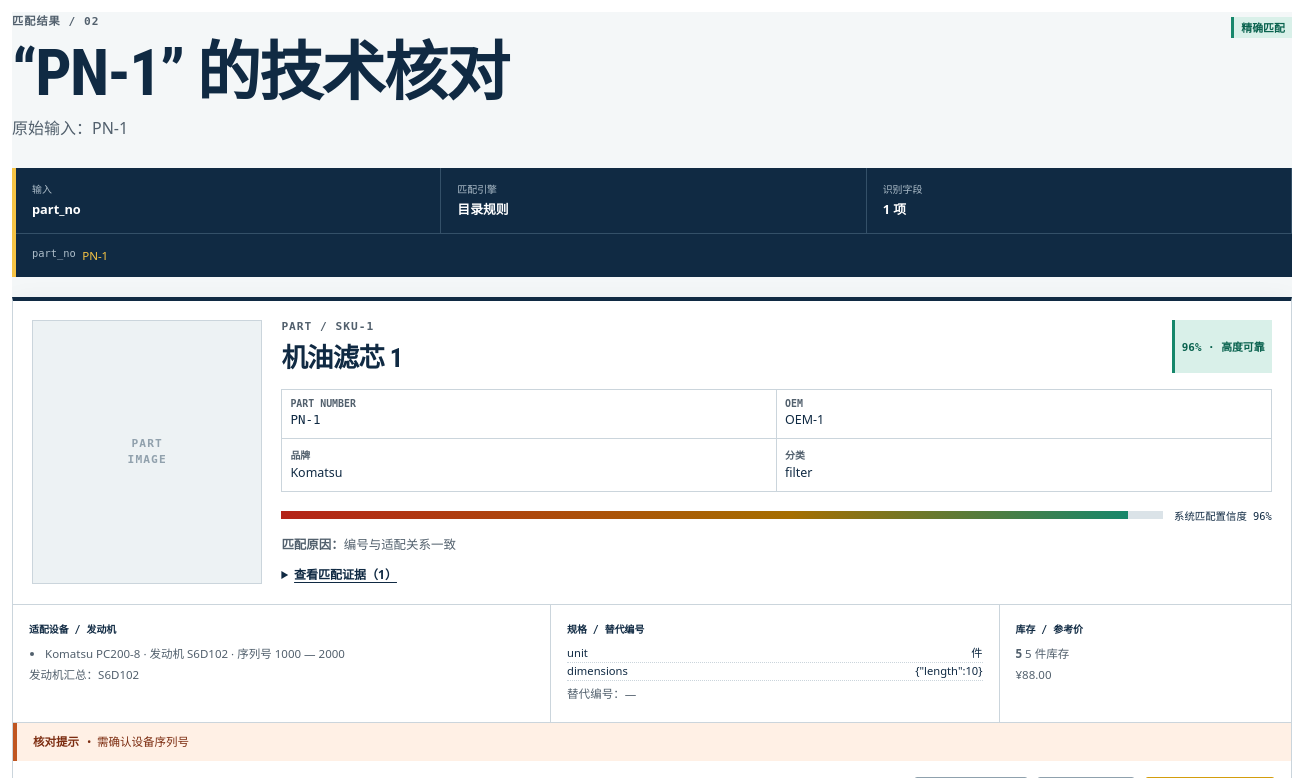
SearchPage › 优先使用 route state，不重复请求并完整展示字段与安全图片 fallback
Expected: the text "原始输入：PN-1" is shown, [12, 117, 128, 139]
Expected: the text "目录规则" is shown, [457, 200, 508, 218]
Click the heading "查看匹配证据（1）". click: (339, 575)
box: [281, 566, 397, 584]
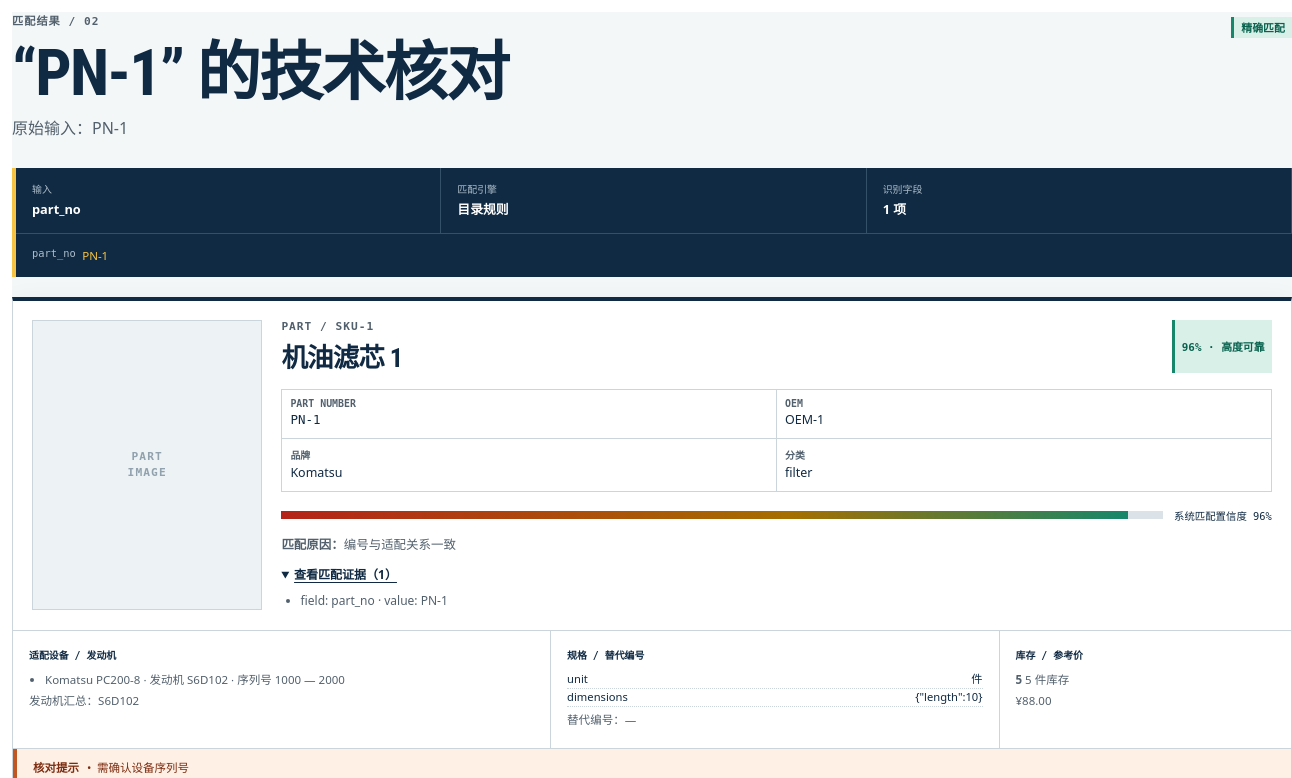
Result: the list item "field: part_no · value: PN-1" is shown at [301, 592, 448, 609]
